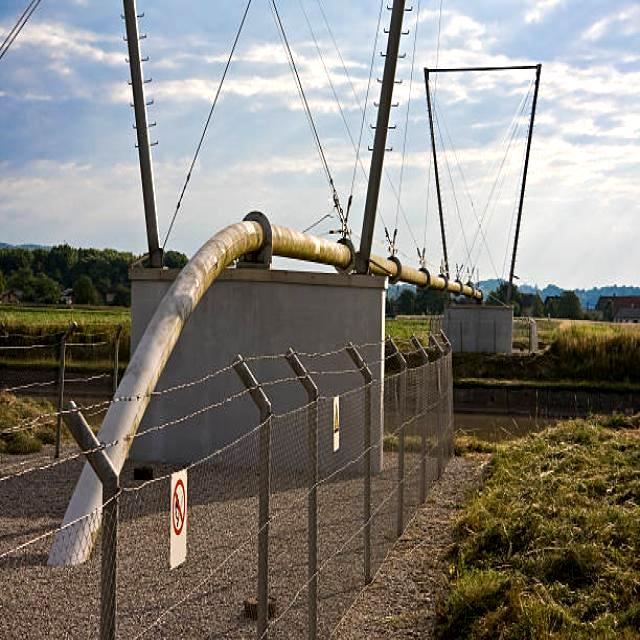Broken Pole: (41, 208, 467, 580)
